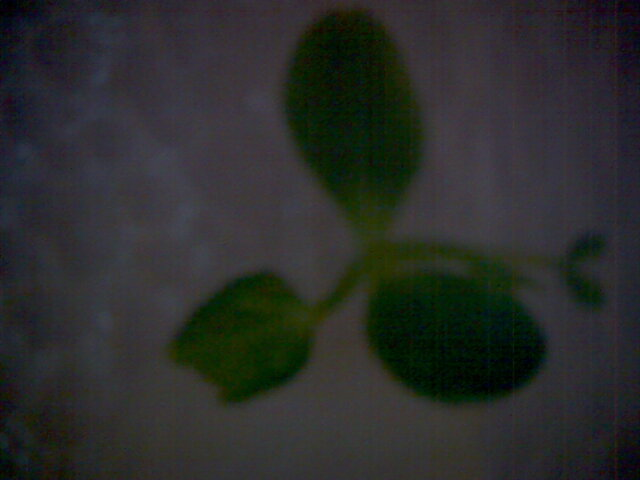lil_plant: (168, 54, 552, 404)
